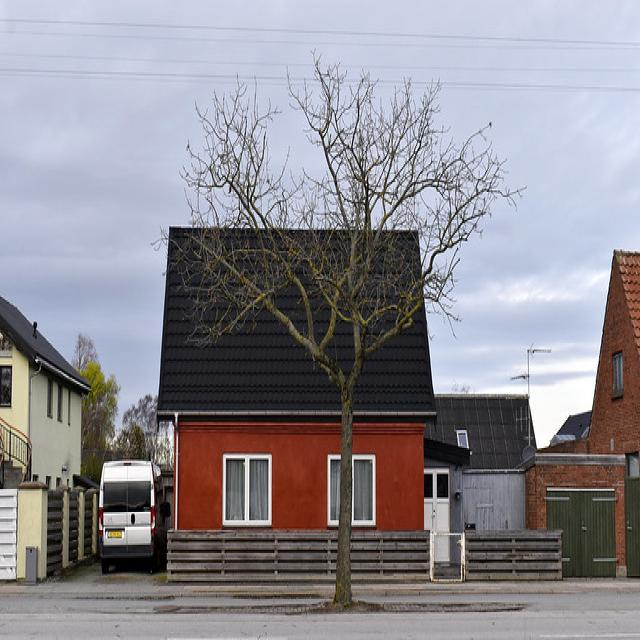Normal_building: (152, 217, 559, 588)
